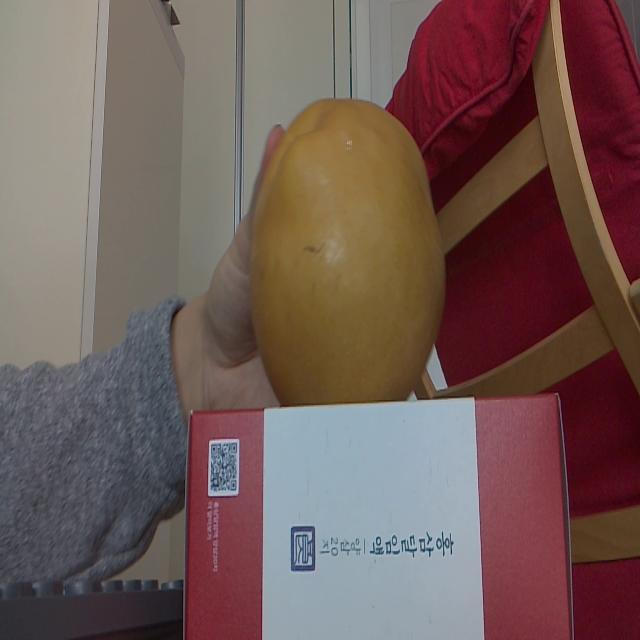pear: (247, 97, 448, 404)
